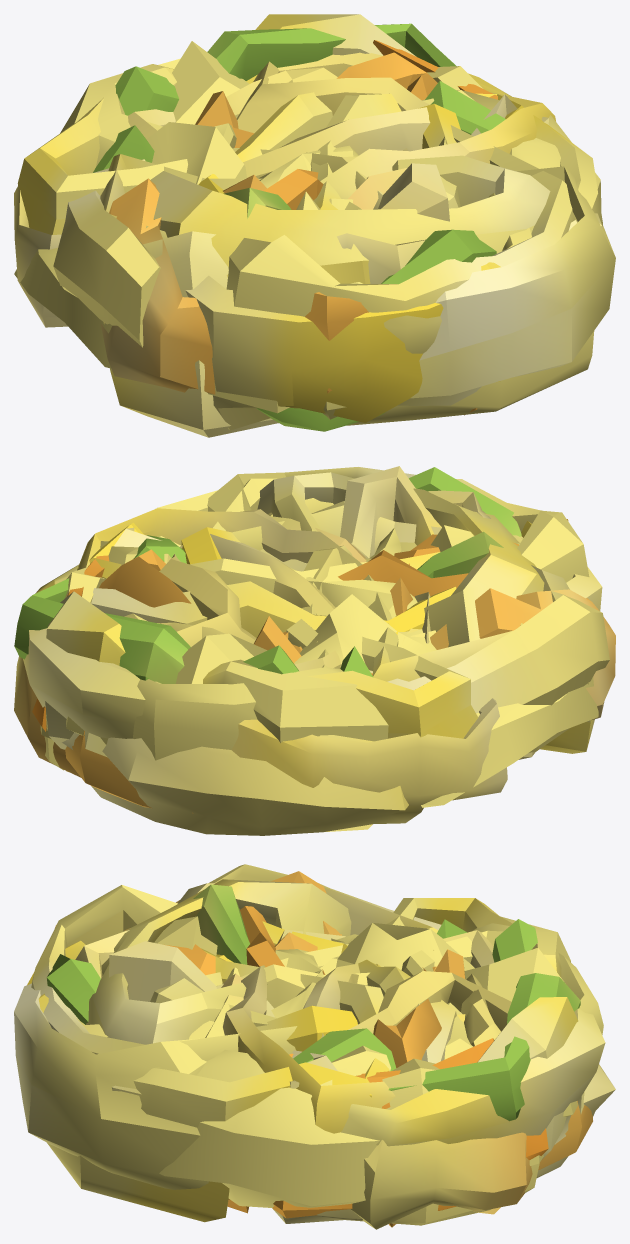
The model's file is kakiage_1.fbx.
The picture shows the model from 3 angles, top to bottom: view 1: azimuth 30°, elevation 25°; view 2: azimuth 150°, elevation 25°; view 3: azimuth 270°, elevation 25°; orthographic projection. The views are drawn at different scales.
Visible parts, largest first — view 1: polySurface9; view 2: polySurface9; view 3: polySurface9.
Part boxes in pixels (box(x1,y1,x2,y2)): polySurface9: box(14, 14, 615, 437); polySurface9: box(14, 466, 615, 835); polySurface9: box(14, 864, 615, 1229).
Bounding box in the file's own units: 0.4056 × 0.172 × 0.4371.
1 material, 1 textured.
